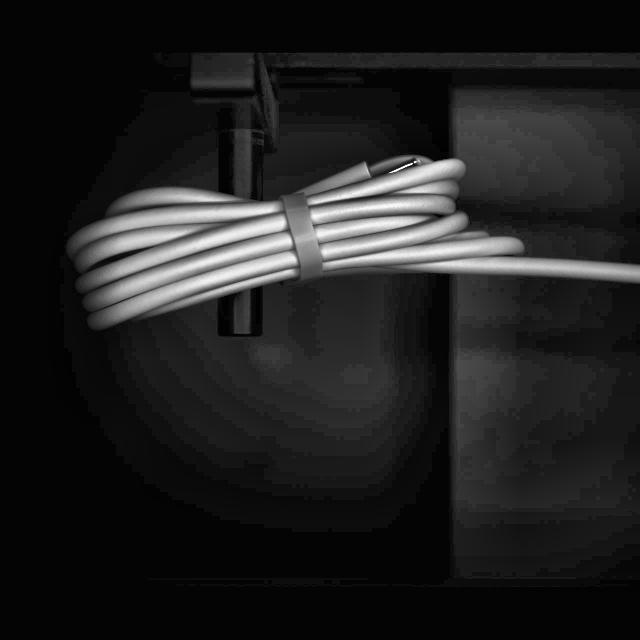Cable: (65, 149, 640, 338)
